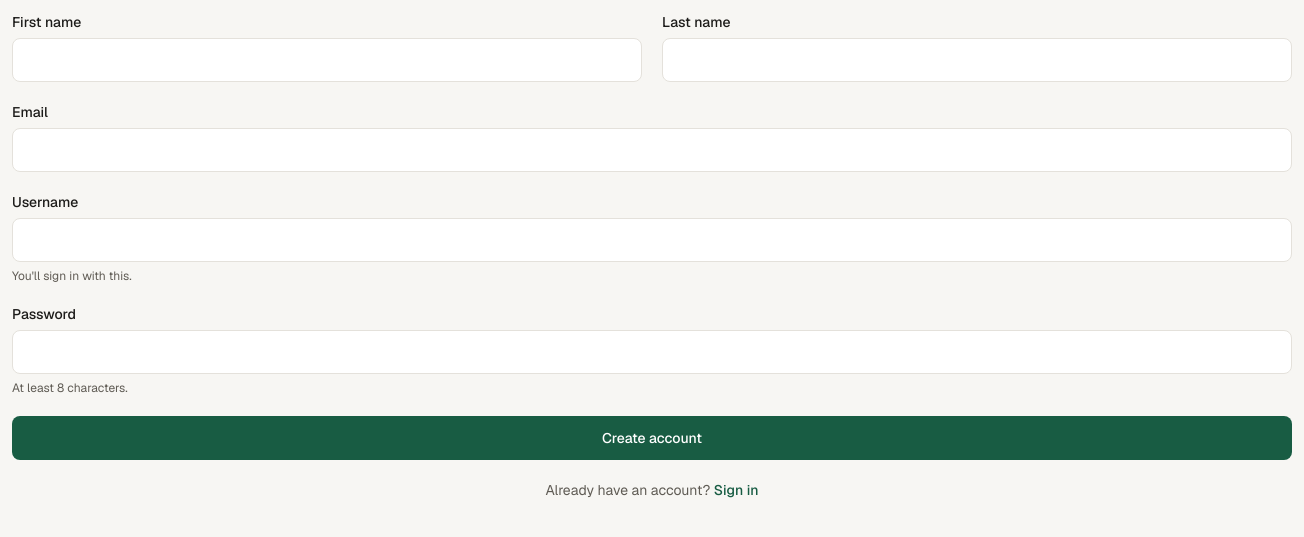
Scenario: RegisterForm › shows duplicate email and username errors from the backend
This screenshot has width=1304, height=537.
Type "Ada" into the field labelled "First name" at (327, 60), box [12,38,642,82]
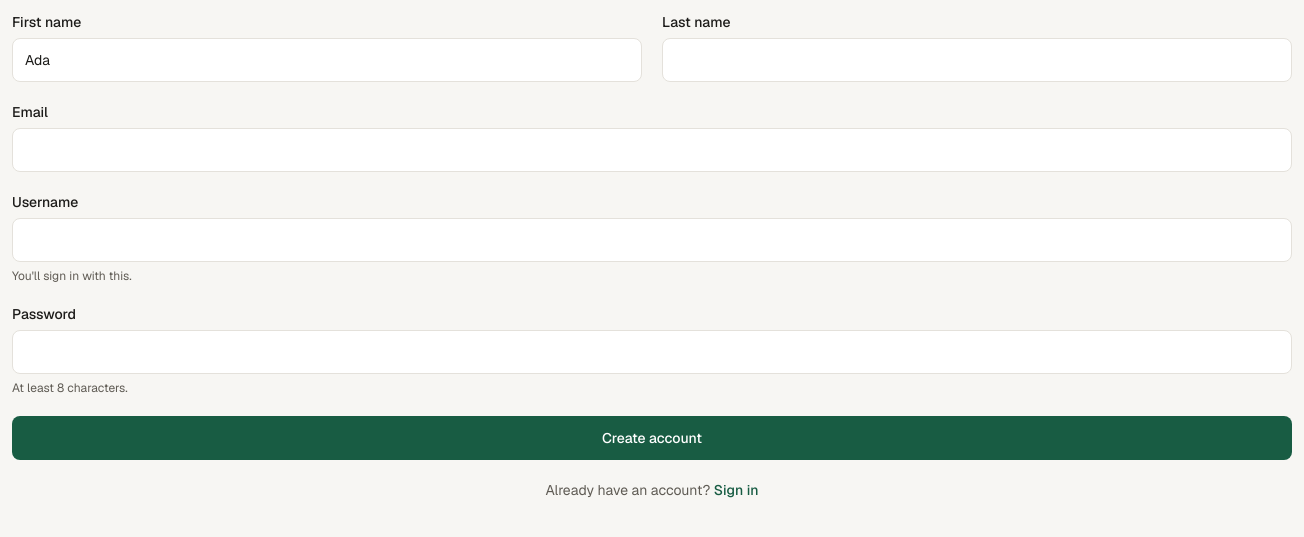
Type "Obi" into the field labelled "Last name" at (977, 60), box [662,38,1292,82]
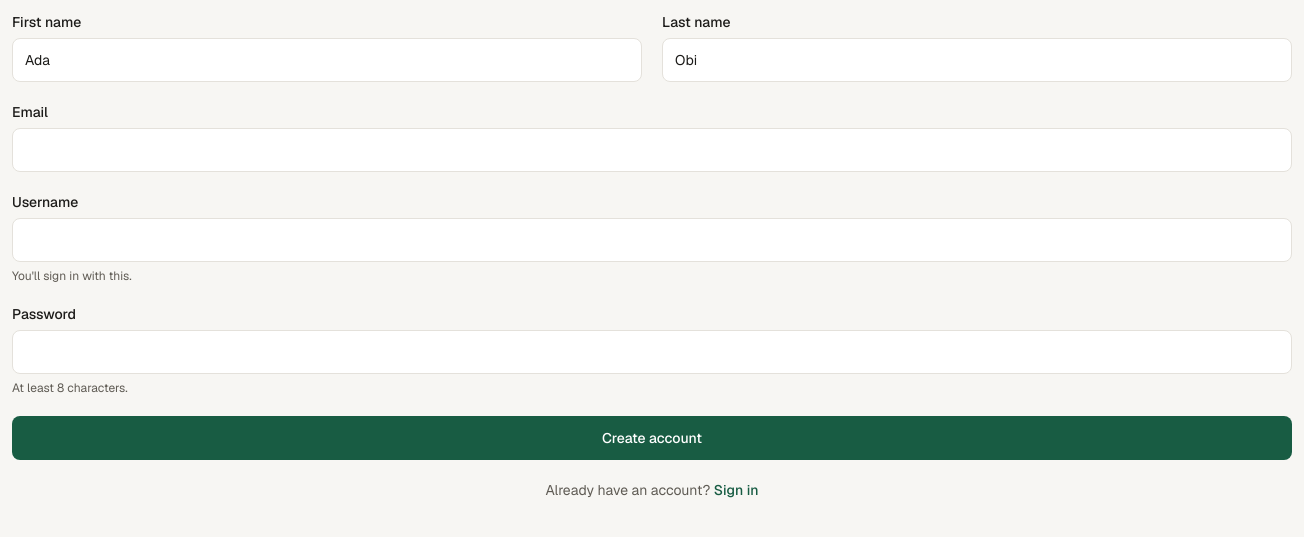
Type "ada@example.com" into the field labelled "Email" at (652, 150), box [12,128,1292,172]
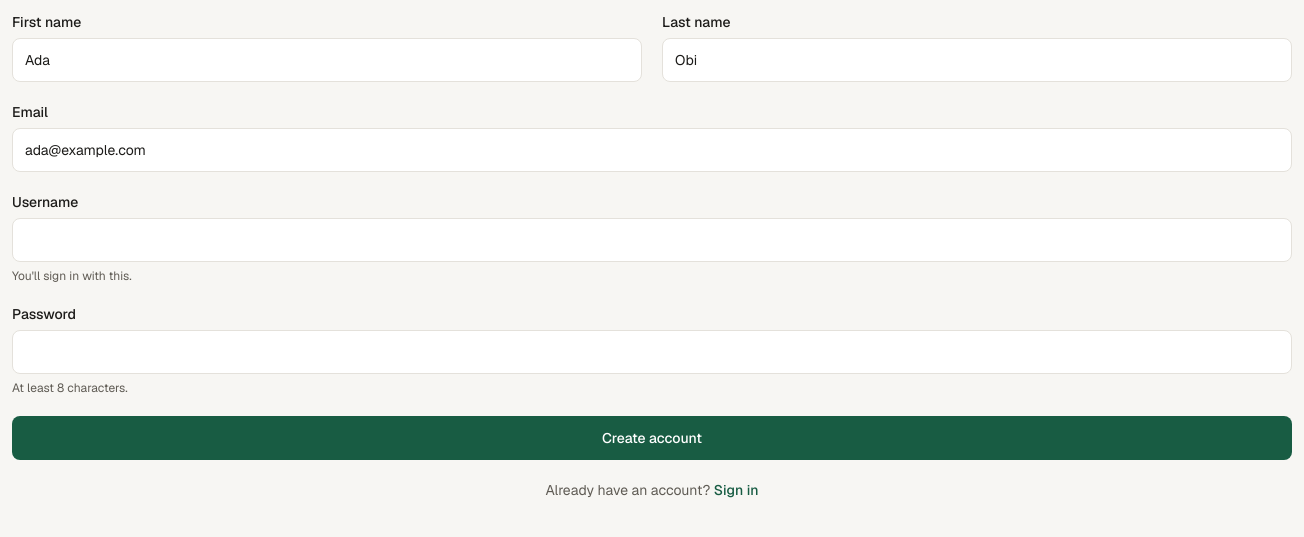
Type "ada" into the field labelled "Username" at (652, 240), box [12,218,1292,262]
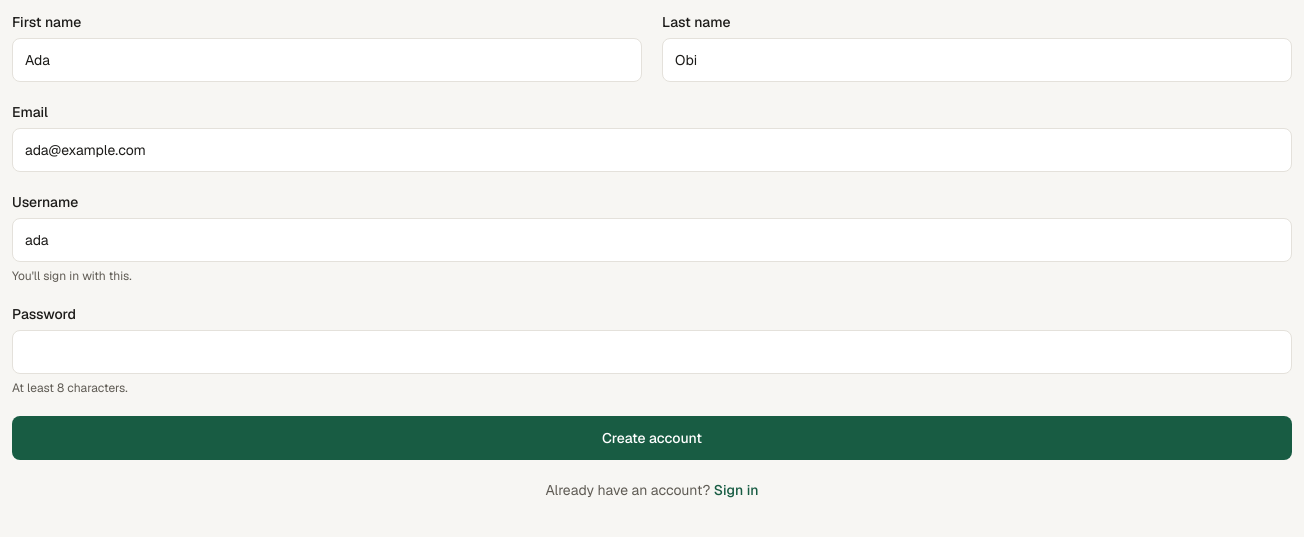
Type "long enough" into the password field labelled "Password" at (652, 352), box [12,330,1292,374]
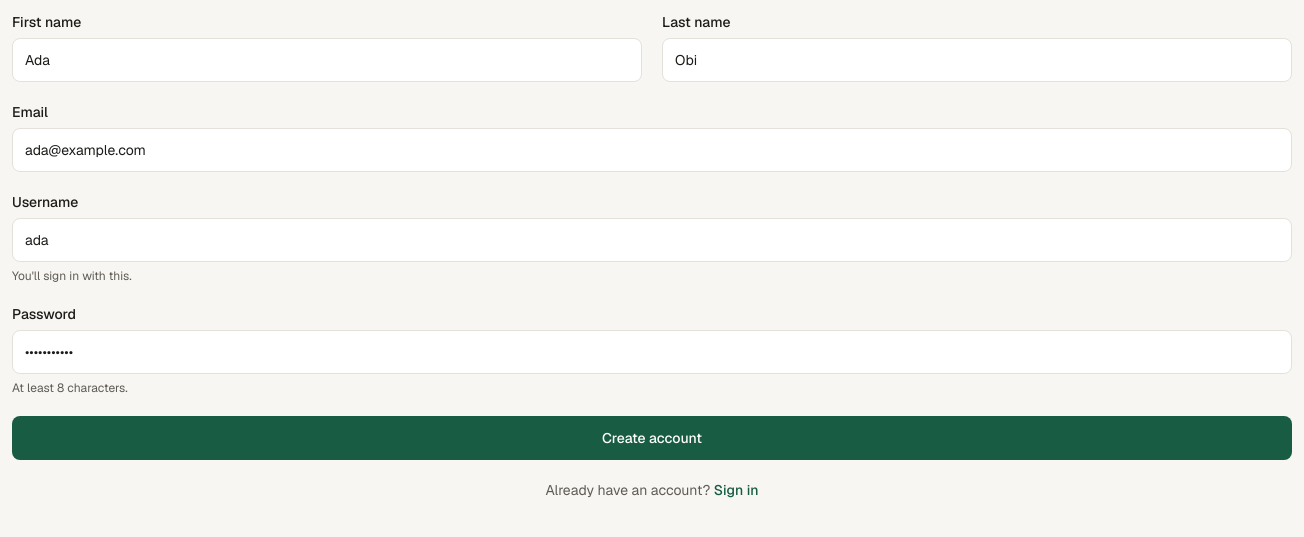
Click the button "Create account" at (652, 438), box [12,416,1292,460]
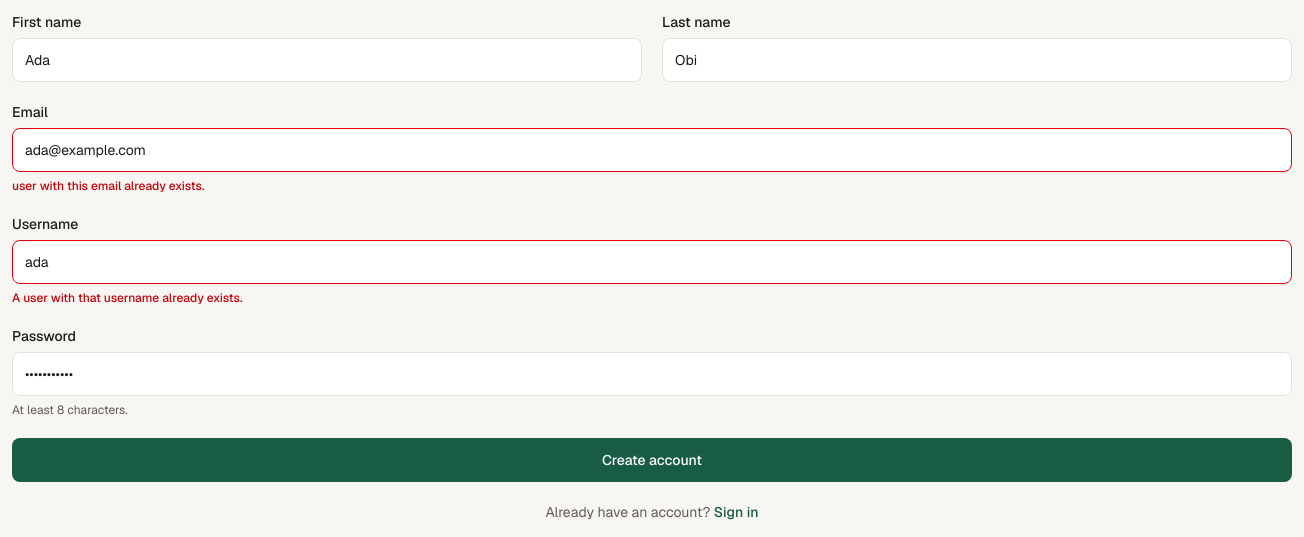
Result: the text "user with this email already exists." is shown at [12,178,204,194]
Result: the text "A user with that username already exists." is shown at [12,290,242,306]
